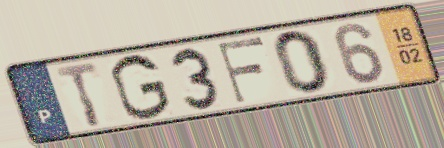0: (270, 28, 334, 97)
3: (170, 45, 220, 113)
6: (331, 21, 386, 86)
F: (215, 34, 268, 106)
G: (108, 53, 174, 123)
T: (52, 60, 105, 129)
